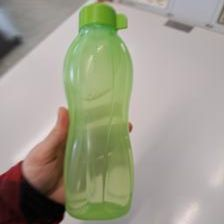bottle: (61, 4, 136, 221)
